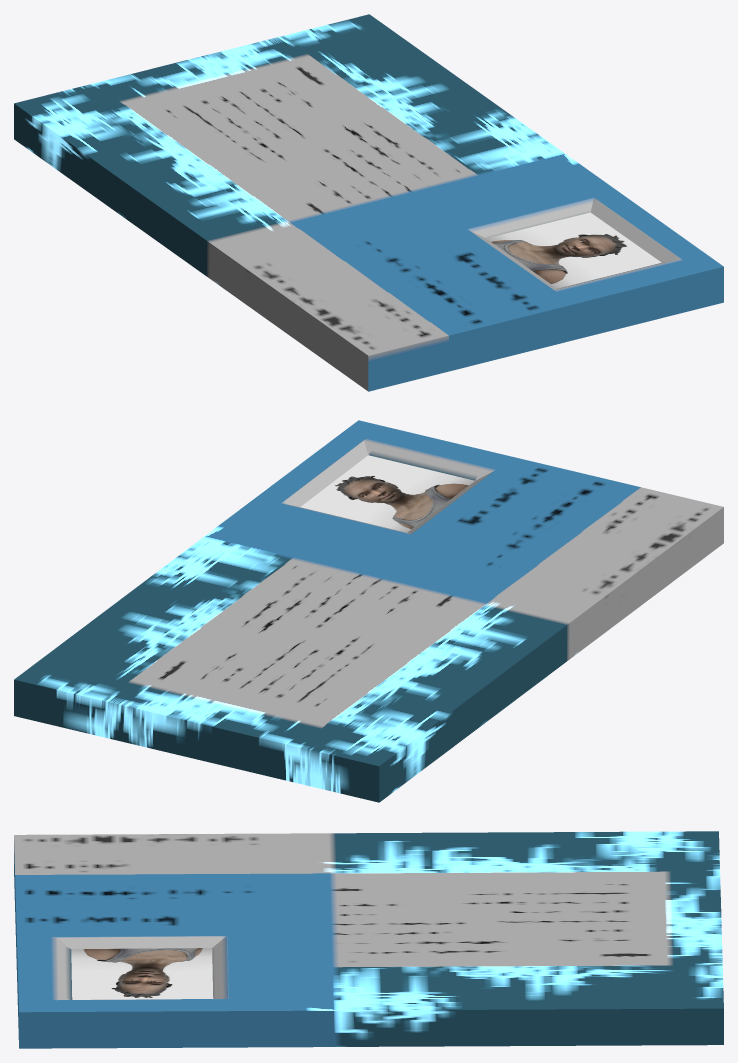
The model's file is Ray_Keycard.fbx.
The picture shows the model from 3 angles, top to bottom: view 1: azimuth 30°, elevation 25°; view 2: azimuth 150°, elevation 25°; view 3: azimuth 270°, elevation 25°; orthographic projection.
Parts seen in each view (by area): view 1: Keycard1, Face; view 2: Keycard1, Face; view 3: Keycard1, Face.
Boxes of the visible parts, <box> form: Keycard1: <box>14,14,723,391</box>; Face: <box>486,212,661,288</box>; Keycard1: <box>14,420,723,802</box>; Face: <box>300,455,474,532</box>; Keycard1: <box>14,831,723,1048</box>; Face: <box>71,948,213,999</box>.
Size of the model in its own units: 0.1785 by 0.0168 by 0.2962.
Materials: 2 (2 with a texture image).
